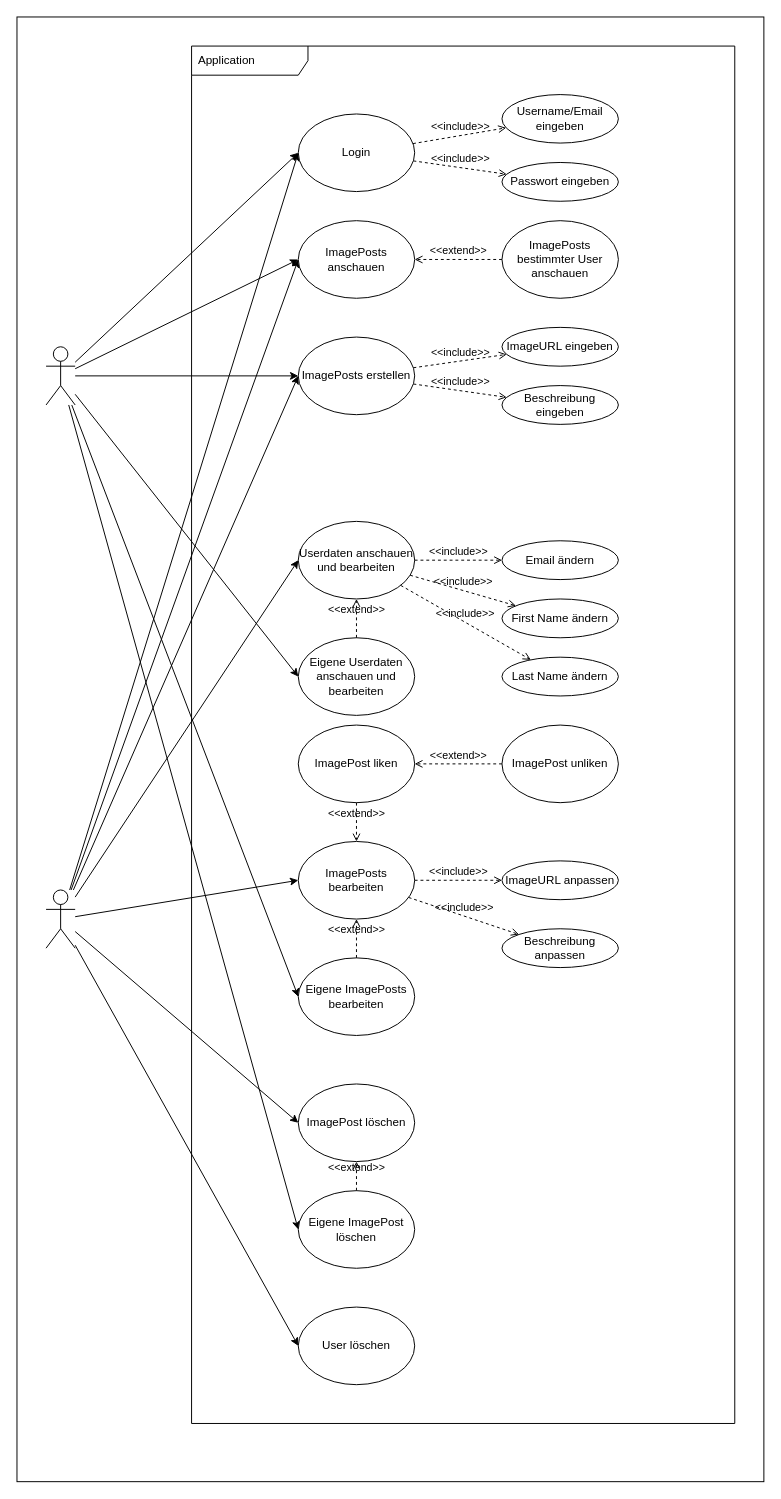
This 781x1499 diagram has some shape labels left out. Each missing label, with the box of its shape:
Admin: (45, 889, 75, 948)
User: (45, 346, 75, 405)
